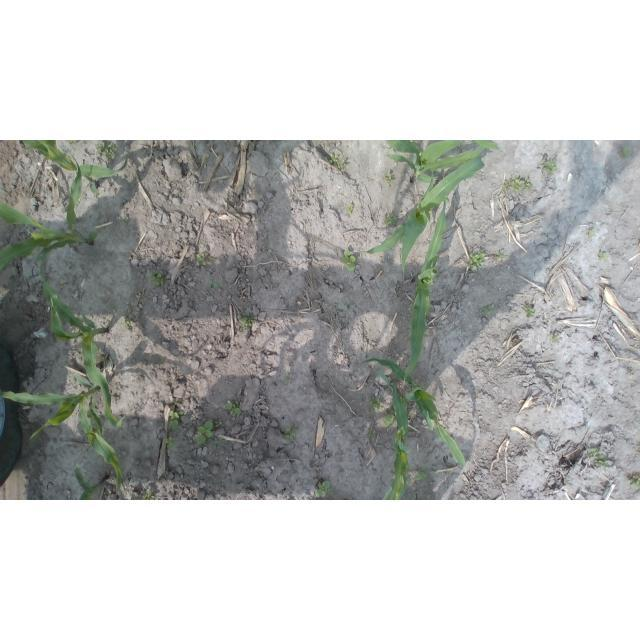Maize: (1, 372, 126, 500), (41, 250, 127, 431), (363, 154, 486, 273), (1, 151, 98, 273), (363, 357, 465, 467), (405, 199, 448, 383), (22, 140, 128, 196), (385, 141, 499, 184), (376, 369, 408, 500), (75, 466, 110, 500)
Weeds: (196, 421, 224, 446), (504, 175, 532, 194), (96, 141, 117, 160), (342, 249, 357, 272), (238, 310, 254, 331), (468, 251, 485, 269), (169, 410, 184, 430), (314, 481, 330, 499), (197, 252, 216, 267), (150, 270, 164, 289), (224, 400, 240, 416), (383, 211, 399, 227), (285, 425, 300, 442), (164, 436, 177, 454), (369, 397, 384, 412), (543, 159, 557, 175), (383, 412, 396, 428), (141, 488, 156, 500), (589, 447, 604, 459), (415, 470, 429, 482), (629, 475, 640, 489), (208, 280, 221, 291), (594, 460, 611, 468), (329, 152, 340, 164), (383, 172, 393, 185), (549, 332, 560, 343), (120, 316, 130, 328), (620, 148, 632, 157), (483, 304, 496, 312), (346, 203, 355, 214), (524, 308, 535, 317), (599, 252, 609, 261), (337, 161, 346, 170), (498, 249, 505, 259), (588, 228, 595, 236), (443, 197, 450, 204), (221, 440, 229, 445), (69, 140, 77, 145), (368, 431, 374, 437), (400, 396, 405, 402), (409, 140, 415, 144), (627, 372, 633, 376), (418, 140, 422, 144), (285, 376, 288, 380)
